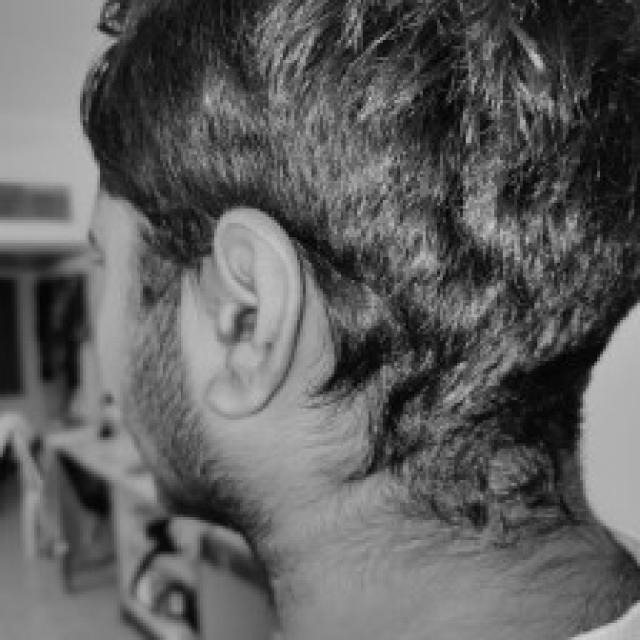ear: (200, 206, 300, 411)
